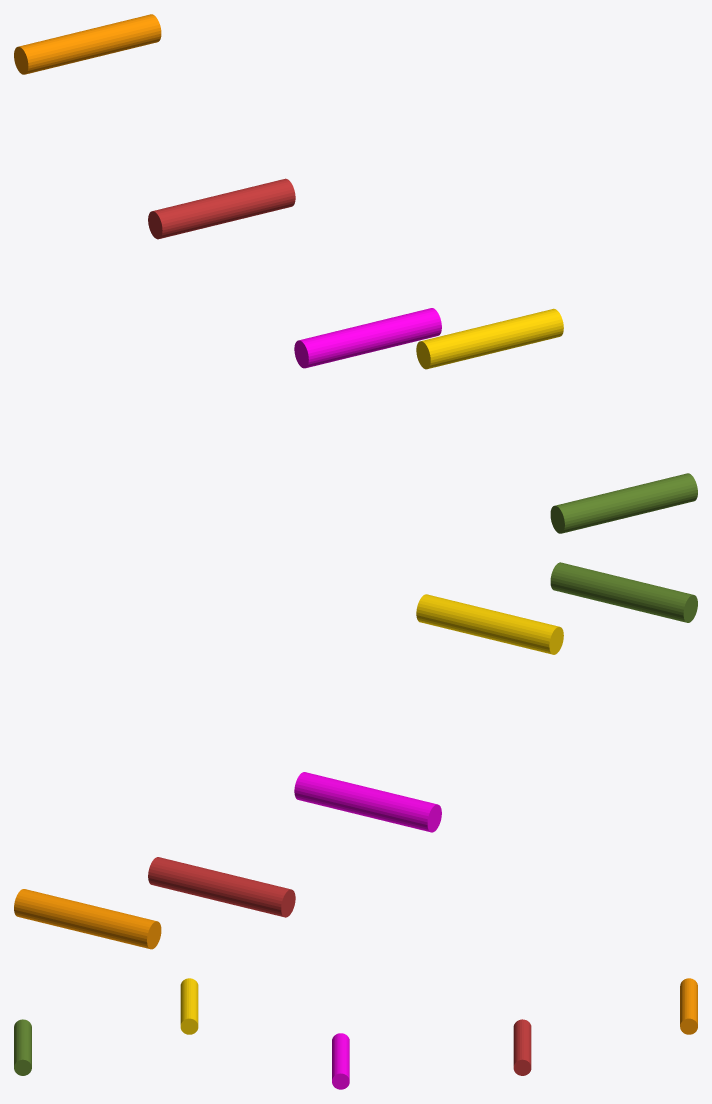
The model's file is Statue18.fbx.
3 renders of one model, top to bottom at view 1: azimuth 30°, elevation 25°; view 2: azimuth 150°, elevation 25°; view 3: azimuth 270°, elevation 25°, orthographic. The views are drawn at different scales.
Visible parts, largest first — view 1: yellow Mesh (1), red Mesh (1), stupeni Mesh (1), pink Mesh (1), orange Mesh (1); view 2: stupeni Mesh (1), yellow Mesh (1), orange Mesh (1), red Mesh (1), pink Mesh (1); view 3: yellow Mesh (1), red Mesh (1), stupeni Mesh (1), pink Mesh (1), orange Mesh (1).
Boxes of the visible parts, x1,y1,x2,y2 form: yellow Mesh (1): [416, 308, 563, 369]; red Mesh (1): [148, 178, 295, 239]; stupeni Mesh (1): [550, 473, 697, 533]; pink Mesh (1): [294, 308, 441, 368]; orange Mesh (1): [14, 14, 161, 74]; stupeni Mesh (1): [550, 562, 697, 622]; yellow Mesh (1): [416, 594, 563, 654]; orange Mesh (1): [14, 889, 161, 949]; red Mesh (1): [148, 857, 295, 917]; pink Mesh (1): [294, 772, 441, 832]; yellow Mesh (1): [180, 978, 198, 1034]; red Mesh (1): [513, 1019, 531, 1075]; stupeni Mesh (1): [14, 1019, 31, 1075]; pink Mesh (1): [332, 1033, 349, 1089]; orange Mesh (1): [680, 978, 697, 1034].
Size of the model in its own units: 1.58 by 1.3 by 11.3.
